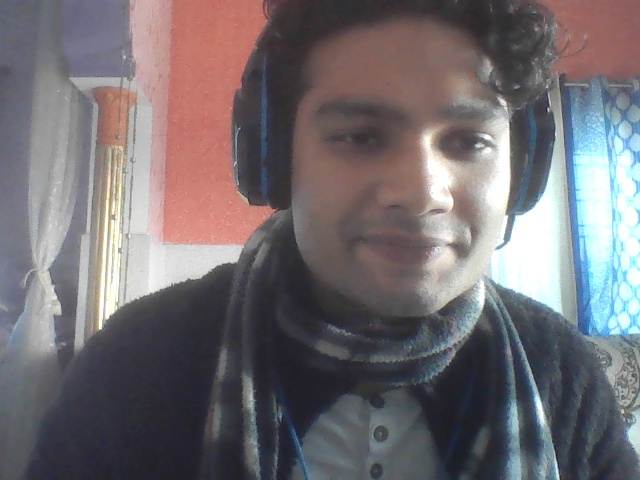real: (243, 0, 539, 419)
